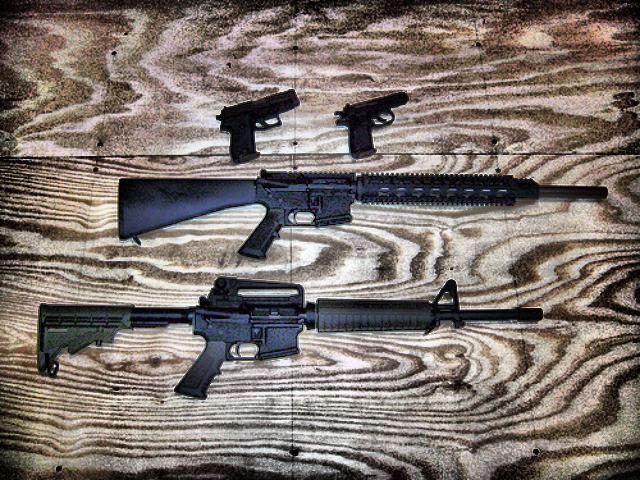pistol: (215, 80, 299, 160), (328, 88, 407, 154)
